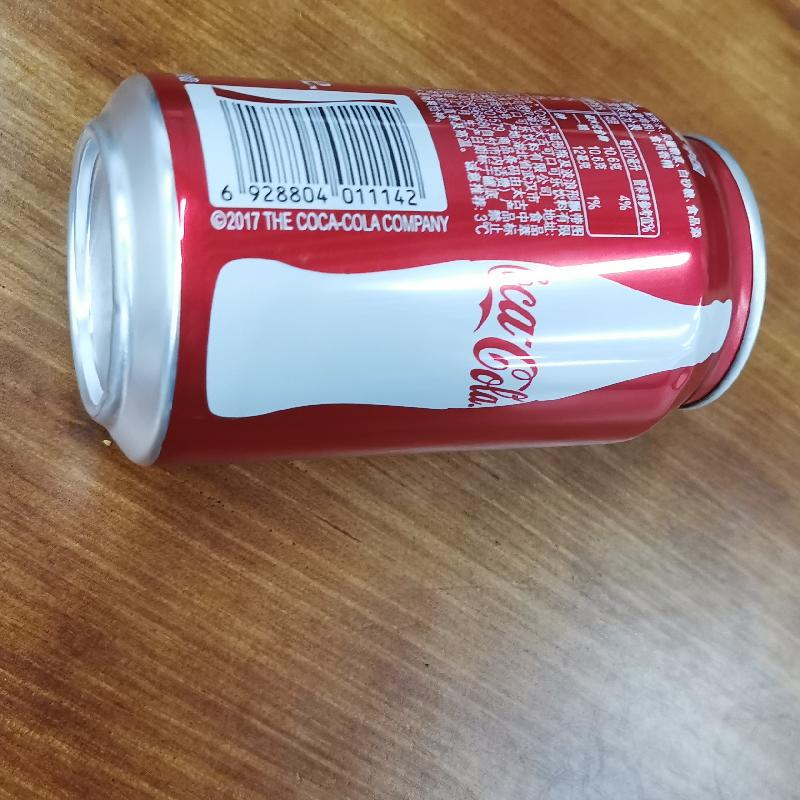cans: (52, 61, 773, 470)
